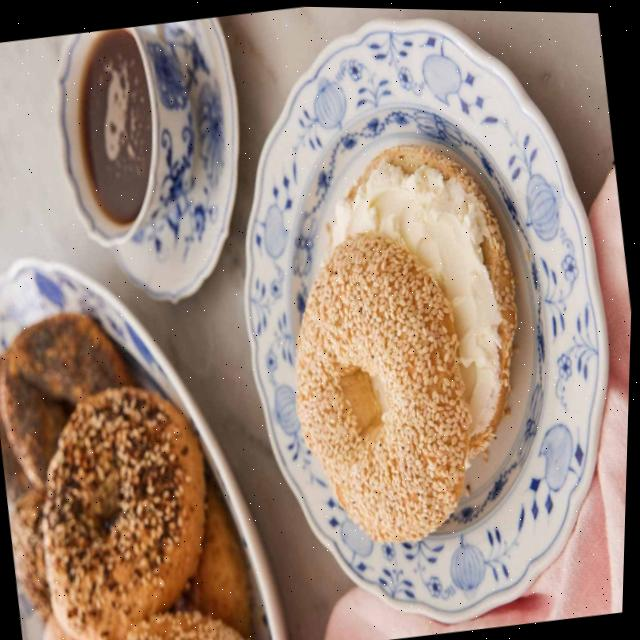Bagel: (298, 142, 519, 540)
